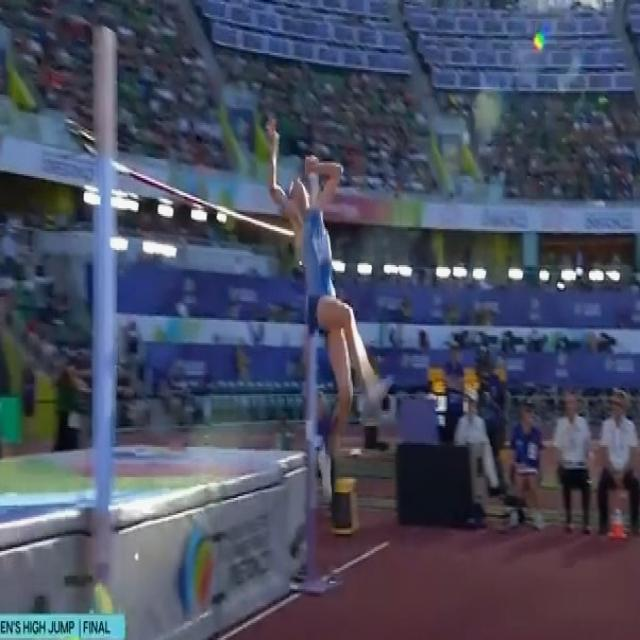jump: (268, 119, 390, 496)
